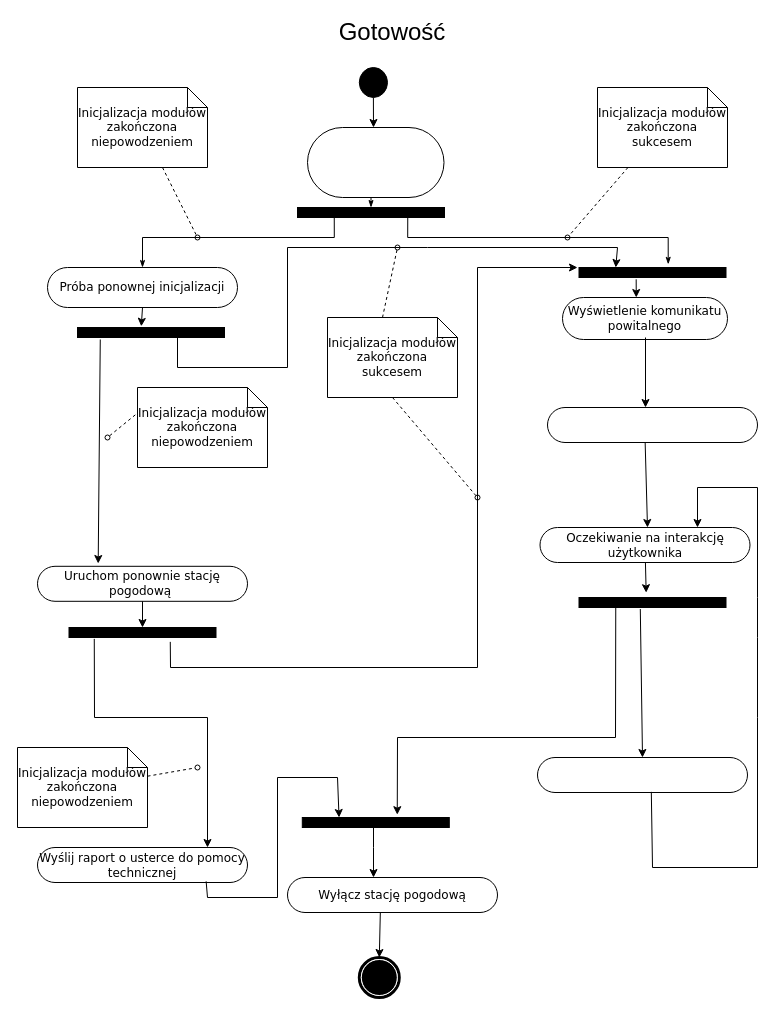
Some shapes in this 783 by 1015 pixel diagram are drawn without their labels. The shapes that lost their labels are listed below. From the top down, each one's box as (x1, y1, x2, y2) in pixels, then its label:
(306, 126, 444, 198): Włączenie stacji pogodowej przez naciśnięcie przycisku zasilania
(546, 406, 758, 442): Ustalenie parametrów początkowych
(536, 756, 748, 792): Wykonanie żądanej akcji
